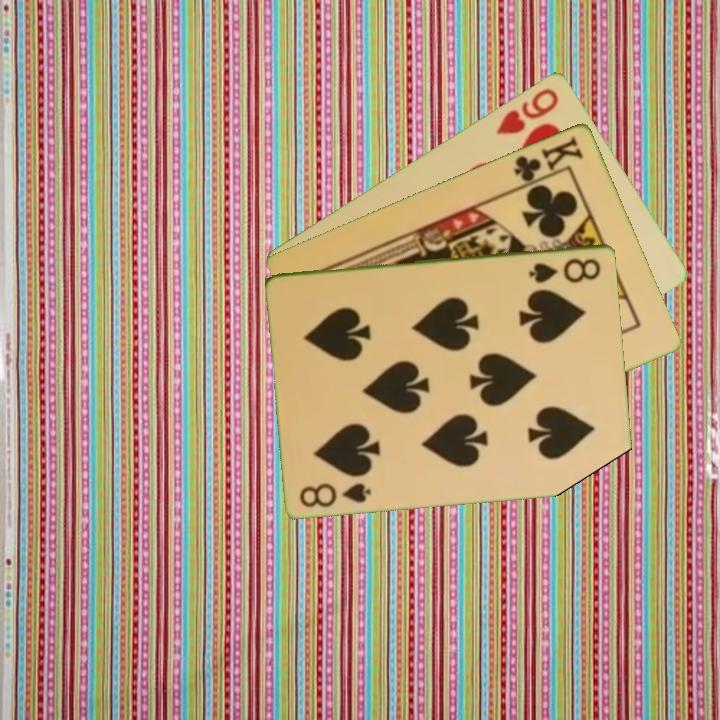8s: (296, 478, 375, 510), (526, 254, 604, 285)
9h: (492, 84, 562, 137)
Kc: (511, 132, 587, 190)
